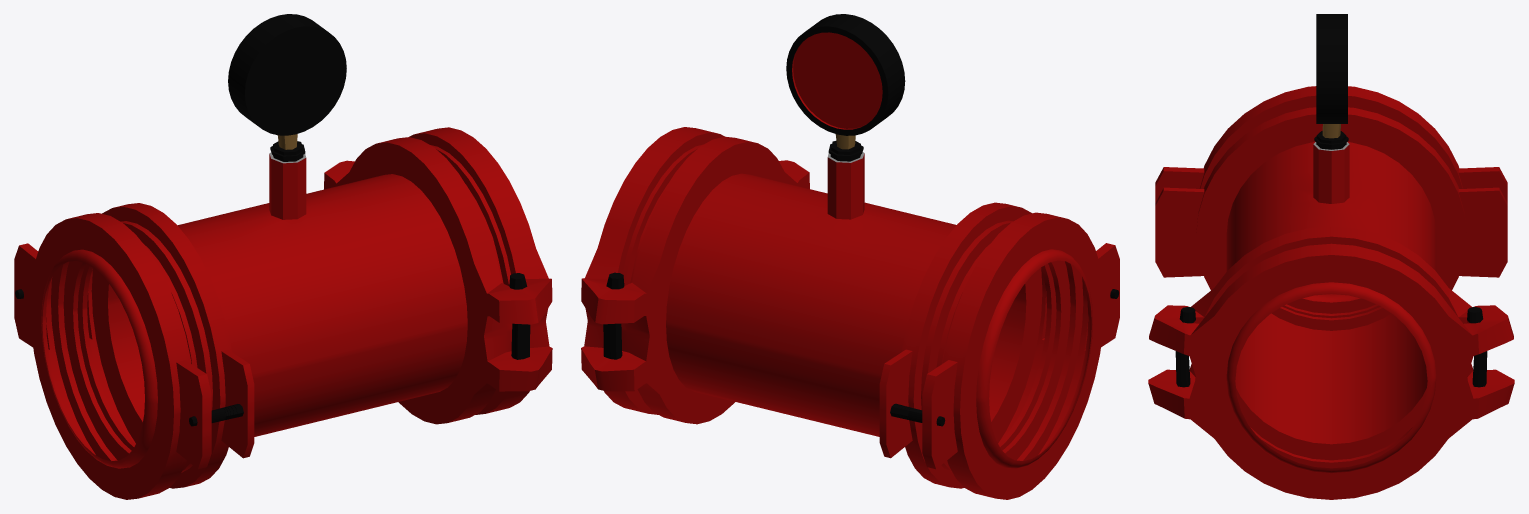
File: Meter Pipe Only.fbx
3 views of the same model, side by side, from view 1: azimuth 30°, elevation 25°; view 2: azimuth 150°, elevation 25°; view 3: azimuth 270°, elevation 25° (orthographic). The views are drawn at different scales.
Parts seen in each view (by area): view 1: Pipe_Meter; view 2: Pipe_Meter; view 3: Pipe_Meter.
Boxes of the visible parts, x1=… form: Pipe_Meter: x1=14, y1=14, x2=552, y2=499; Pipe_Meter: x1=581, y1=14, x2=1119, y2=499; Pipe_Meter: x1=1148, y1=14, x2=1514, y2=499.
Bounding box in the file's own units: 266 × 277 × 232.
